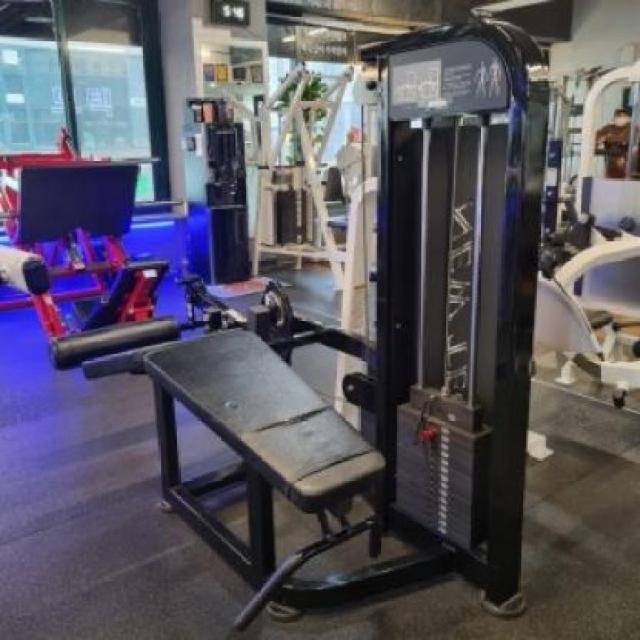reg curl machine: (50, 17, 552, 640)
